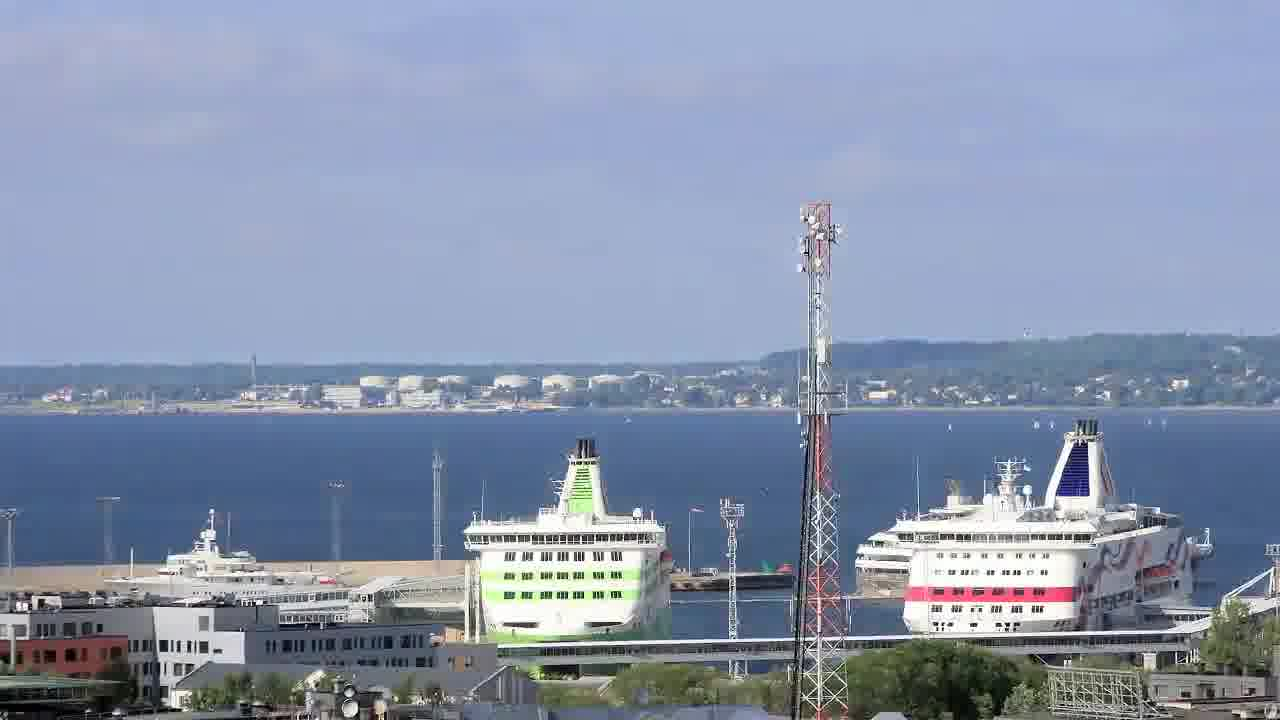type-3: (868, 415, 1225, 638), (436, 434, 694, 670), (94, 516, 350, 605), (849, 472, 967, 607)
